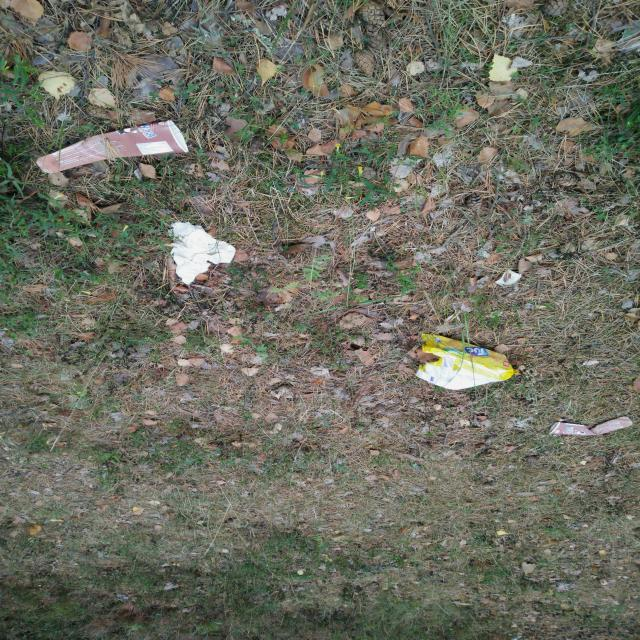Meal carton: (36, 120, 190, 174), (551, 416, 636, 435)
Normal paper: (168, 222, 236, 285)
Other plastic: (417, 334, 522, 390)
